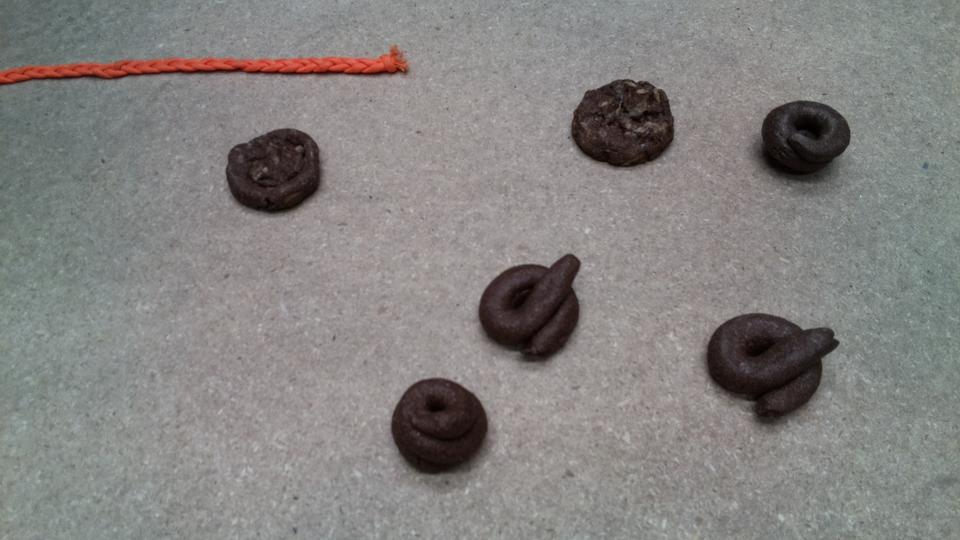poop: (700, 308, 840, 426), (476, 249, 590, 365), (386, 374, 493, 476), (568, 75, 678, 171), (223, 124, 328, 216), (759, 96, 856, 185)
rope: (1, 39, 415, 86)
